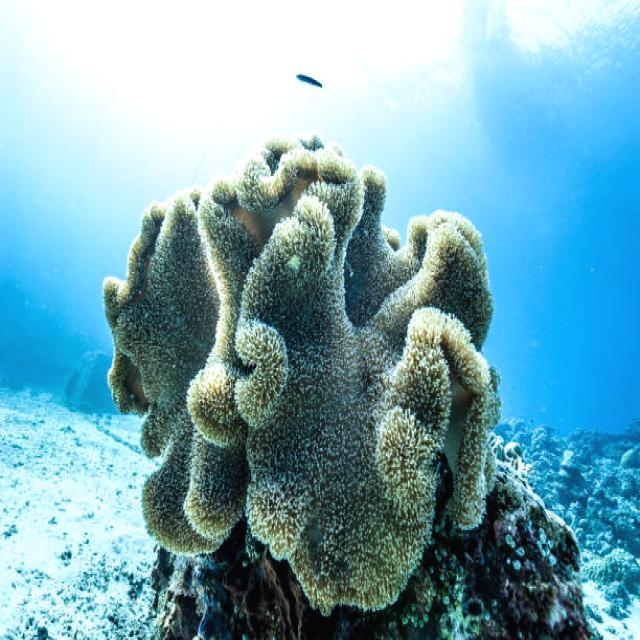Coral: (102, 129, 494, 618)
